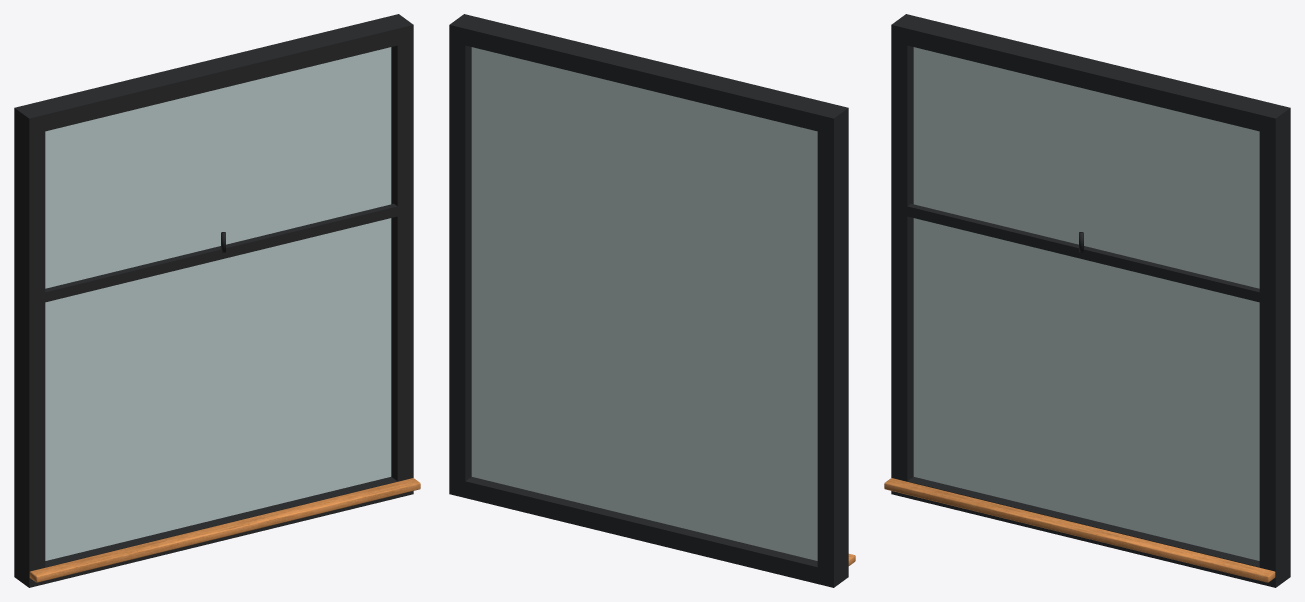
Rendered from architecture.operable-window.glb.
3 renders of one model, left to right at view 1: azimuth 30°, elevation 25°; view 2: azimuth 150°, elevation 25°; view 3: azimuth 330°, elevation 25°, orthographic.
Parts seen in each view (by area): view 1: architecture.operable-window.001; view 2: architecture.operable-window.001; view 3: architecture.operable-window.001.
Boxes of the visible parts, <box> form: architecture.operable-window.001: <box>14,14,420,587</box>; architecture.operable-window.001: <box>449,14,855,587</box>; architecture.operable-window.001: <box>884,14,1290,587</box>.
Size of the model in its own units: 1.2 by 1.4 by 0.12.
3 materials, 1 textured.
